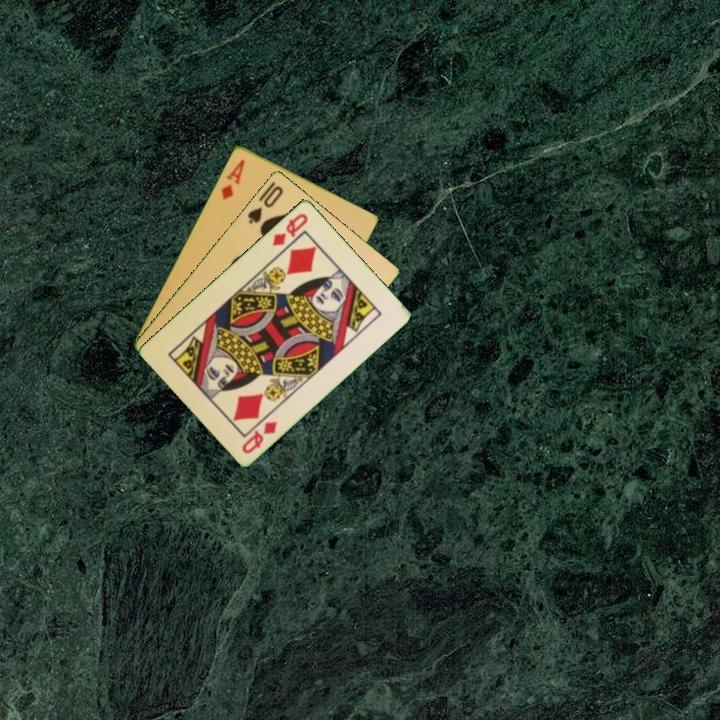10s: (244, 182, 286, 226)
Ad: (217, 155, 248, 202)
Qd: (269, 209, 311, 249), (238, 417, 280, 456)
